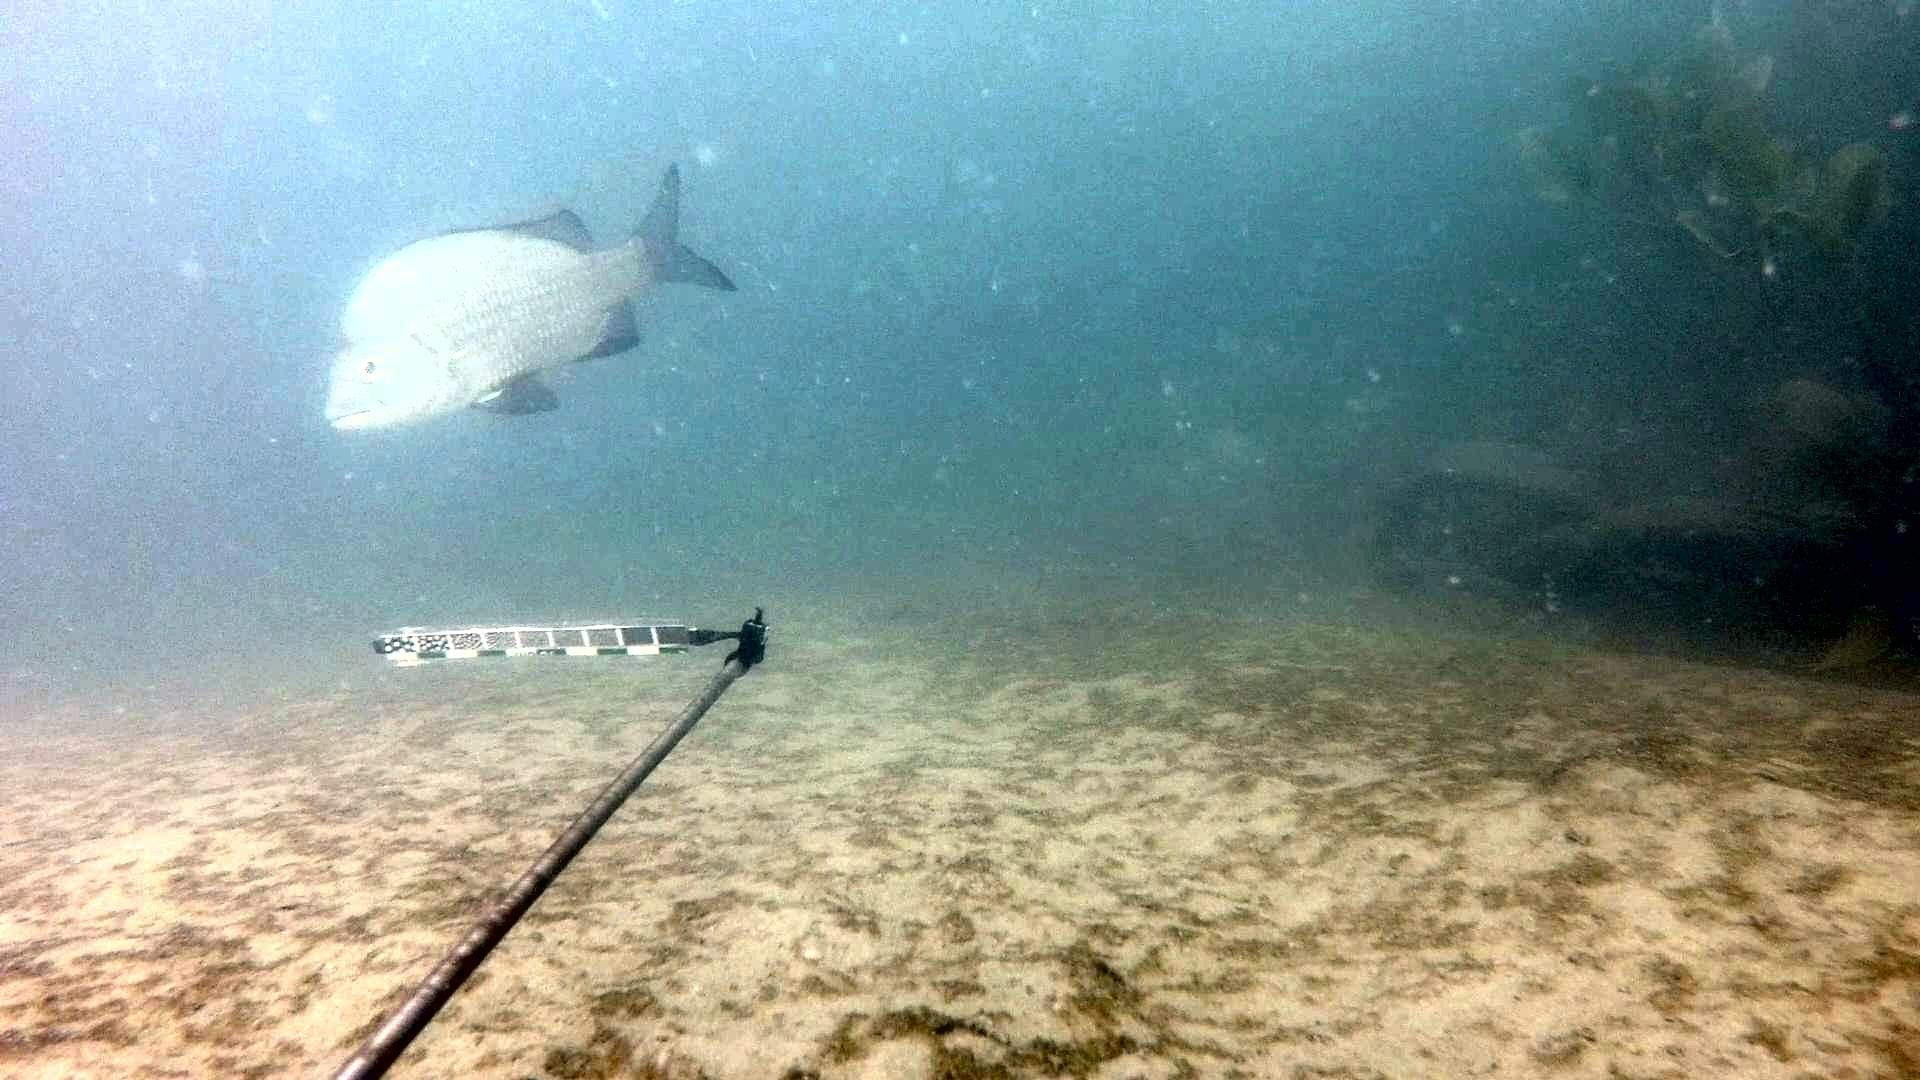acanthopagrus palmaris: (308, 153, 749, 434)
